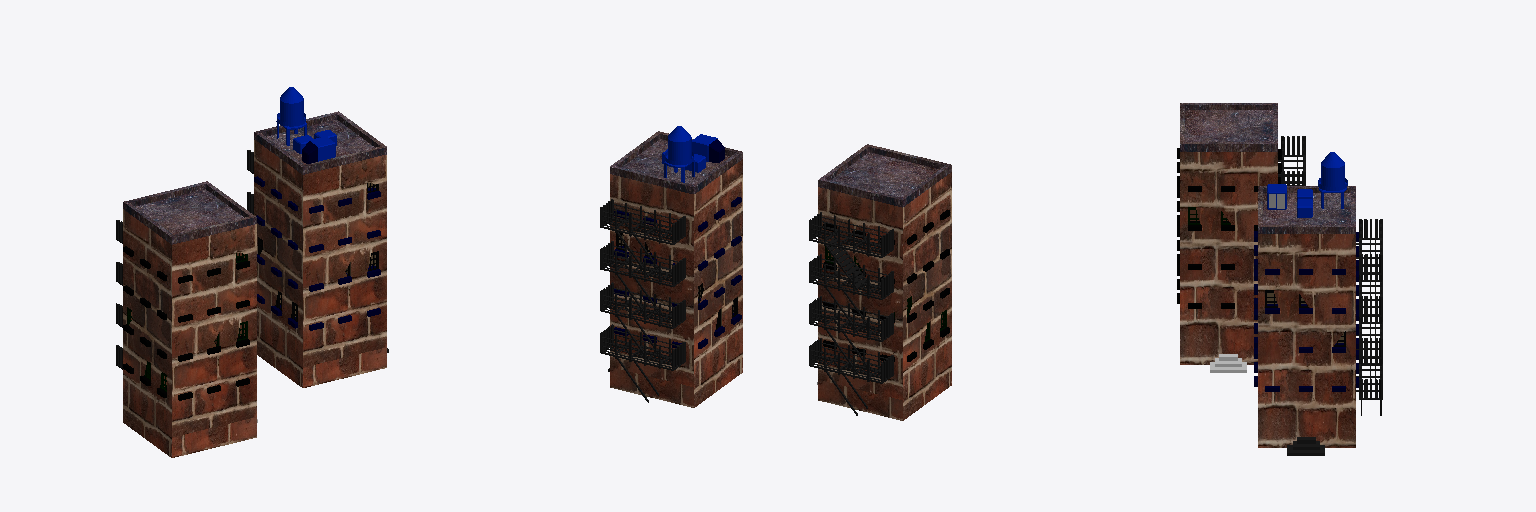
The picture shows the model from 3 angles: view 1: azimuth 30°, elevation 25°; view 2: azimuth 150°, elevation 25°; view 3: azimuth 270°, elevation 25°; orthographic projection.
Parts seen in each view (by area): view 1: building_4_Cube.009, building_3_Cube.016, Cube.011_Cube.015, pegangan.003_Plane.008; view 2: building_4_Cube.009, building_3_Cube.016, pegangan.003_Plane.008, Cube.011_Cube.015; view 3: building_4_Cube.009, building_3_Cube.016, Cube.011_Cube.015, pegangan.003_Plane.008, Cube.010_Cube.014.
Boxes of the visible parts, x1=… form: building_4_Cube.009: x1=247, y1=87, x2=388, y2=387; building_3_Cube.016: x1=123, y1=181, x2=256, y2=457; Cube.011_Cube.015: x1=123, y1=246, x2=249, y2=400; pegangan.003_Plane.008: x1=116, y1=220, x2=122, y2=369; building_4_Cube.009: x1=600, y1=126, x2=742, y2=407; building_3_Cube.016: x1=818, y1=144, x2=951, y2=420; pegangan.003_Plane.008: x1=809, y1=212, x2=893, y2=415; Cube.011_Cube.015: x1=823, y1=210, x2=949, y2=361; building_4_Cube.009: x1=1254, y1=152, x2=1382, y2=455; building_3_Cube.016: x1=1180, y1=103, x2=1277, y2=364; Cube.011_Cube.015: x1=1177, y1=148, x2=1281, y2=308; pegangan.003_Plane.008: x1=1278, y1=136, x2=1305, y2=185; Cube.010_Cube.014: x1=1210, y1=354, x2=1246, y2=372.
Size of the model in its own units: 6.48 by 6.01 by 4.23.
13 materials, 3 textured.